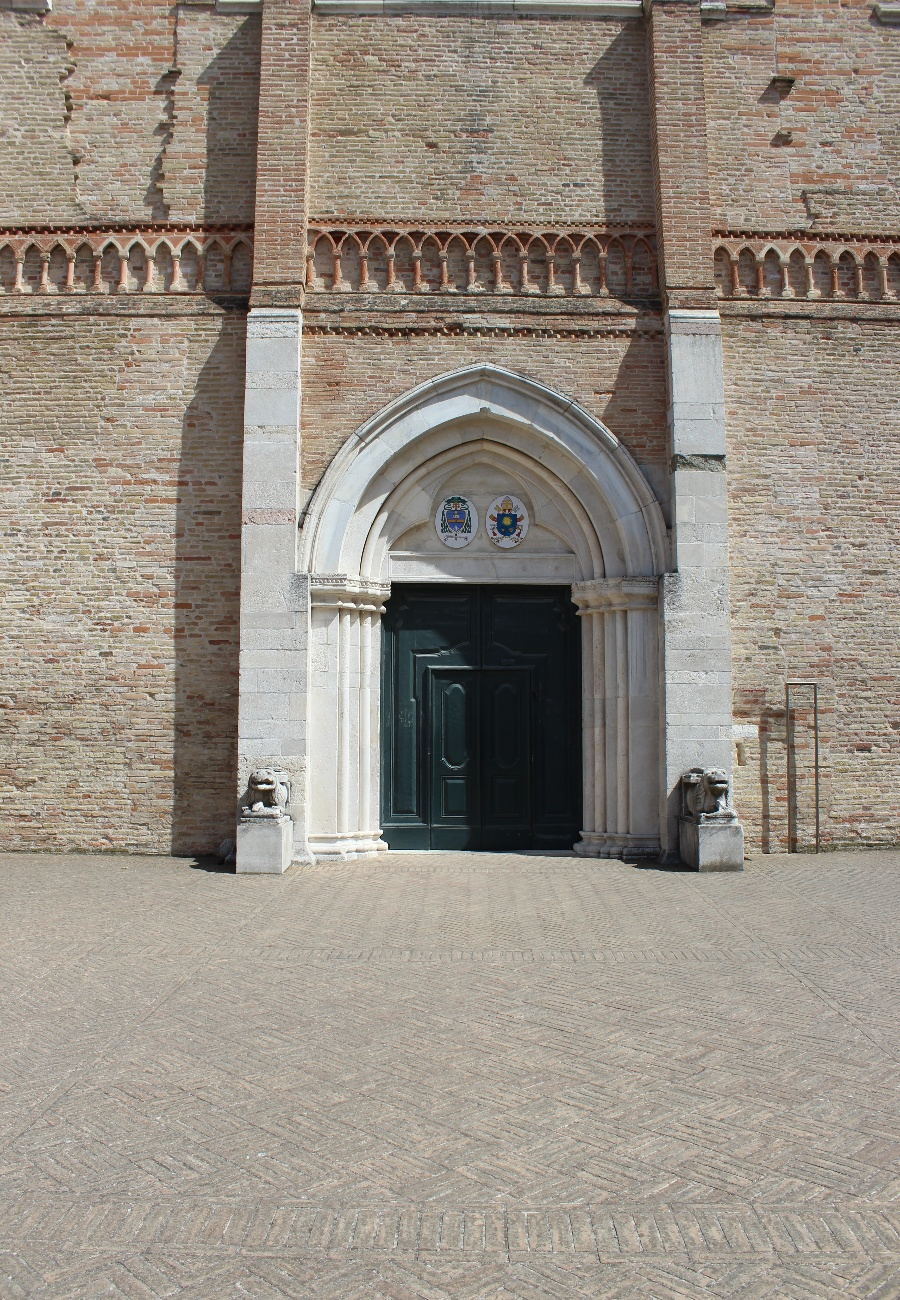Cattedrale Santa Maria Assunta: (204, 25, 757, 888)
